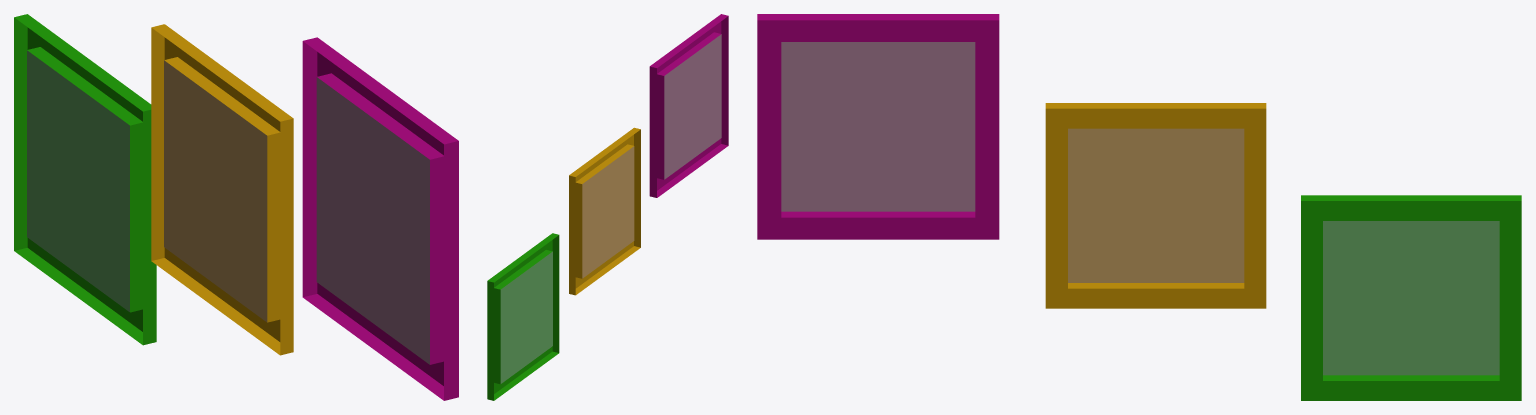
Rendered from pictures.fbx.
The picture shows the model from 3 angles, left to right: view 1: azimuth 30°, elevation 25°; view 2: azimuth 150°, elevation 25°; view 3: azimuth 270°, elevation 25°; orthographic projection. The views are drawn at different scales.
Parts seen in each view (by area): view 1: pPlane1, pPlane2, pPlane3; view 2: pPlane1, pPlane3, pPlane2; view 3: pPlane1, pPlane2, pPlane3.
Part boxes in pixels (bbox=[...]): pPlane1: bbox=[302, 37, 458, 400]; pPlane2: bbox=[151, 24, 293, 355]; pPlane3: bbox=[14, 14, 156, 345]; pPlane1: bbox=[649, 14, 728, 197]; pPlane3: bbox=[487, 233, 559, 400]; pPlane2: bbox=[569, 127, 640, 295]; pPlane1: bbox=[757, 14, 999, 239]; pPlane2: bbox=[1045, 103, 1266, 308]; pPlane3: bbox=[1301, 195, 1521, 400].
Size of the model in its own units: 20.98 by 291 by 538.
